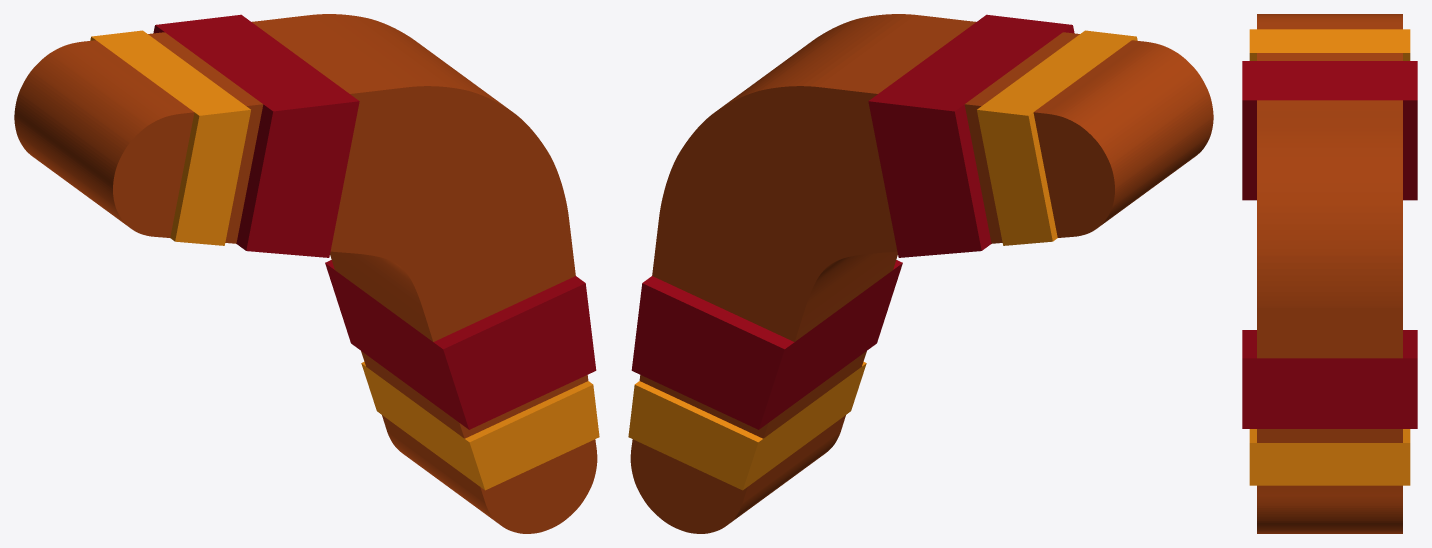
The picture shows the model from 3 angles, left to right: view 1: azimuth 30°, elevation 25°; view 2: azimuth 150°, elevation 25°; view 3: azimuth 270°, elevation 25°; orthographic projection. The views are drawn at different scales.
Parts seen in each view (by area): view 1: U+1FA83_layer00_obj00, U+1FA83_layer02_obj00, U+1FA83_layer01_obj00; view 2: U+1FA83_layer00_obj00, U+1FA83_layer02_obj00, U+1FA83_layer01_obj00; view 3: U+1FA83_layer00_obj00, U+1FA83_layer02_obj00, U+1FA83_layer01_obj00.
Boxes of the visible parts, x1,y1,x2,y2 form: U+1FA83_layer00_obj00: (14,14,597,533); U+1FA83_layer02_obj00: (153,14,596,429); U+1FA83_layer01_obj00: (90,30,599,490); U+1FA83_layer00_obj00: (630,14,1213,533); U+1FA83_layer02_obj00: (631,14,1074,429); U+1FA83_layer01_obj00: (628,30,1137,490); U+1FA83_layer00_obj00: (1257,14,1402,533); U+1FA83_layer02_obj00: (1242,61,1417,428); U+1FA83_layer01_obj00: (1249,29,1410,485).
Size of the model in its own units: 0.5678 by 0.568 by 0.24.
